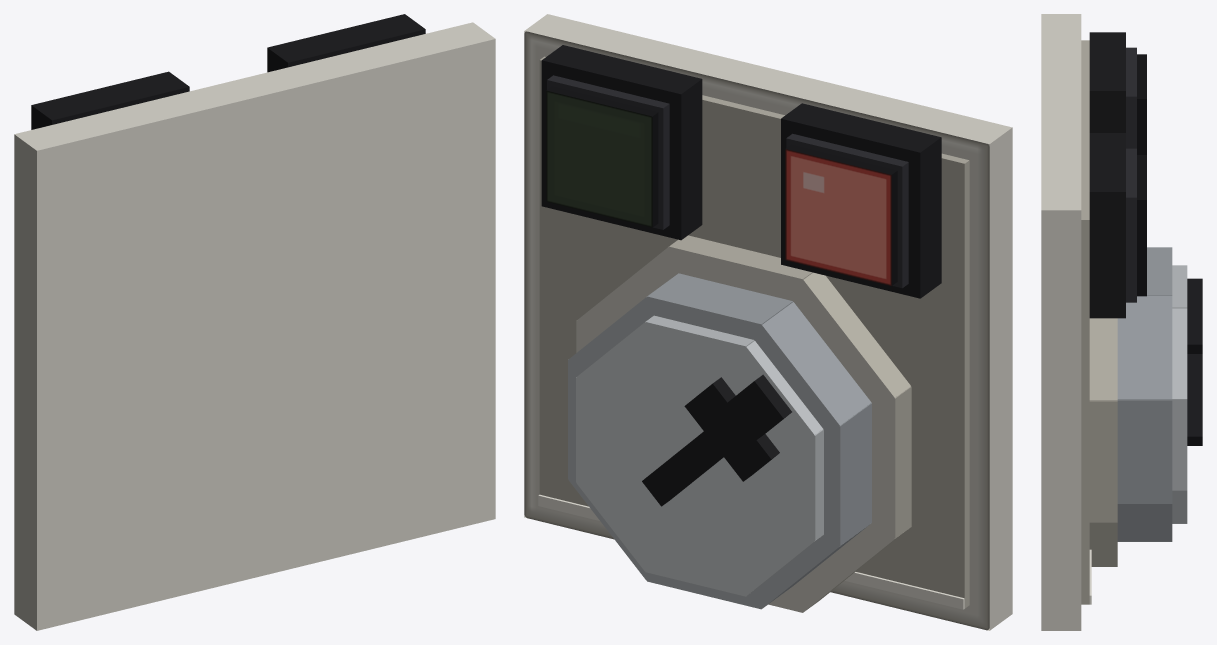
Rendered from knob_switch_close.obj.
The picture shows the model from 3 angles, left to right: view 1: azimuth 30°, elevation 25°; view 2: azimuth 150°, elevation 25°; view 3: azimuth 270°, elevation 25°; orthographic projection. The views are drawn at different scales.
Parts seen in each view (by area): view 1: Panel, LampRed, LampGreen; view 2: Panel, Knob, LampGreen, LampRed; view 3: Panel, Knob, LampGreen, LampRed.
Boxes of the visible parts, x1,y1,x2,y2 form: Panel: (14, 22, 495, 630); LampRed: (31, 71, 189, 129); LampGreen: (267, 14, 425, 72); Panel: (524, 14, 1012, 630); Knob: (568, 235, 911, 612); LampGreen: (541, 45, 702, 240); LampRed: (781, 103, 941, 298); Panel: (1041, 14, 1091, 630); Knob: (1089, 247, 1202, 566); LampGreen: (1089, 133, 1146, 318); LampRed: (1089, 32, 1146, 154).
Size of the model in its own units: 0.875 by 0.8875 by 0.3038.
Materials: 1 (1 with a texture image).
